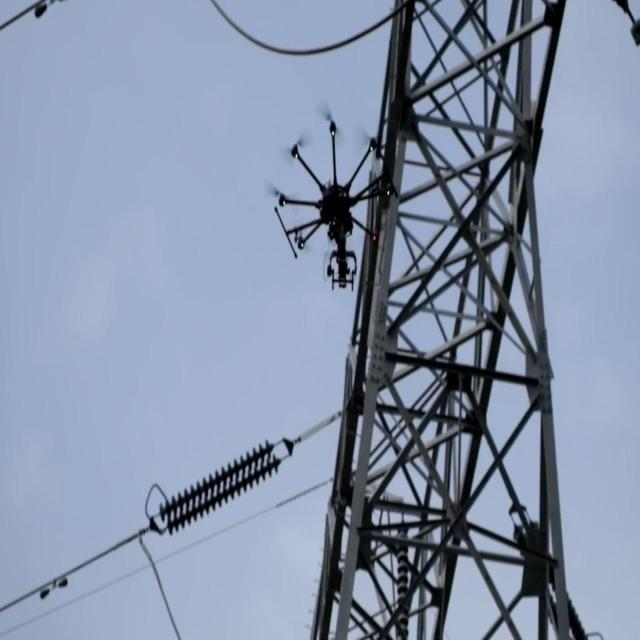drone: (271, 117, 393, 291)
